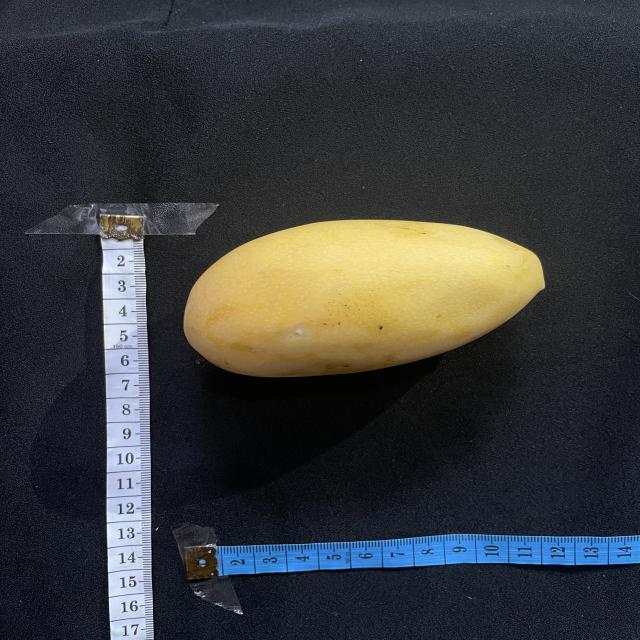Ripe: (184, 220, 545, 377)
